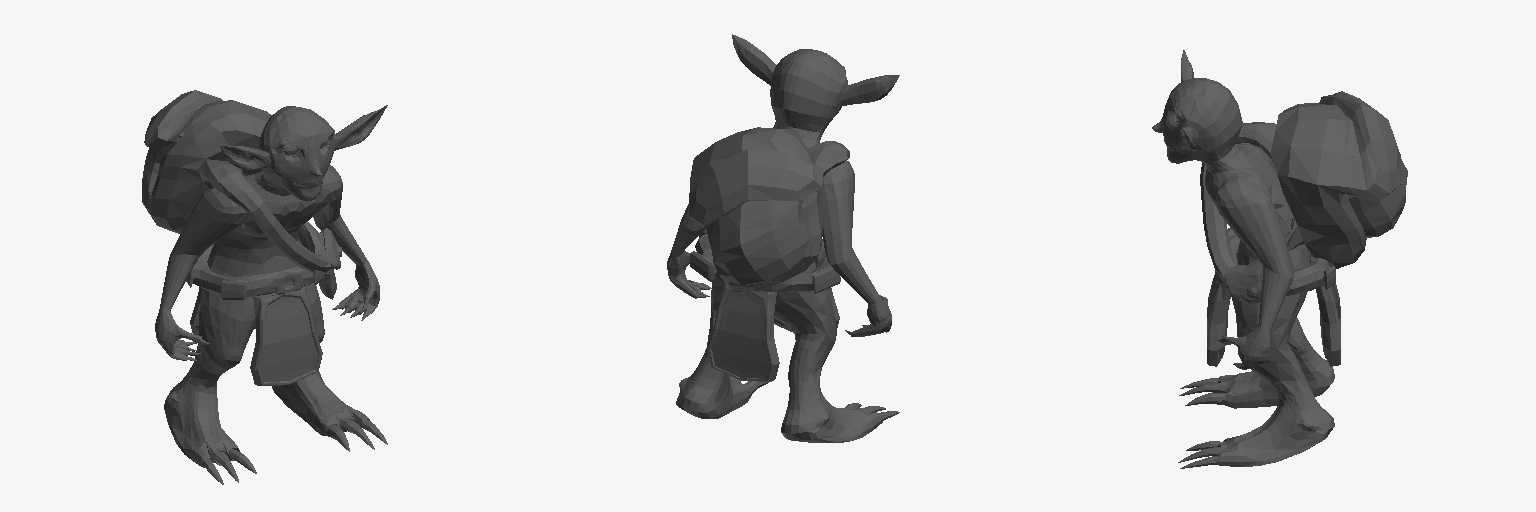
Rendered from goblin02.obj.
The picture shows the model from 3 angles: view 1: azimuth 30°, elevation 25°; view 2: azimuth 150°, elevation 25°; view 3: azimuth 270°, elevation 25°; orthographic projection.
Visible parts, largest first — view 1: goblin_Untitled, backpack_Untitled.010, loincloth_Untitled.003; view 2: goblin_Untitled, backpack_Untitled.010, loincloth_Untitled.003; view 3: goblin_Untitled, backpack_Untitled.010, loincloth_Untitled.003.
Part boxes in pixels (x1,y1,x2,y2): goblin_Untitled: (155,105,387,484); backpack_Untitled.010: (142,90,341,299); loincloth_Untitled.003: (186,244,325,385); goblin_Untitled: (667,34,899,442); backpack_Untitled.010: (689,127,849,290); loincloth_Untitled.003: (689,234,840,381); goblin_Untitled: (1152,50,1334,468); backpack_Untitled.010: (1200,91,1407,330); loincloth_Untitled.003: (1207,228,1340,366).
Size of the model in its own units: 0.4976 by 0.7569 by 0.5022.